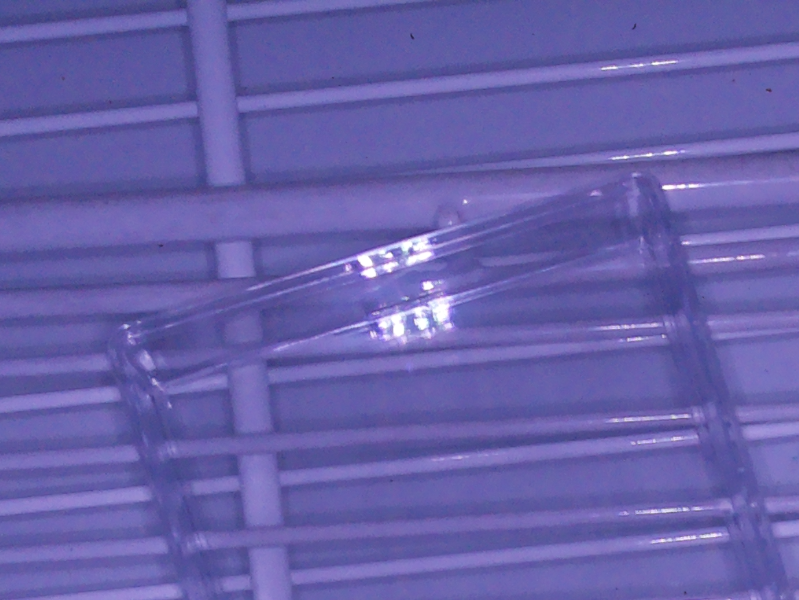plate: (109, 168, 783, 600)
